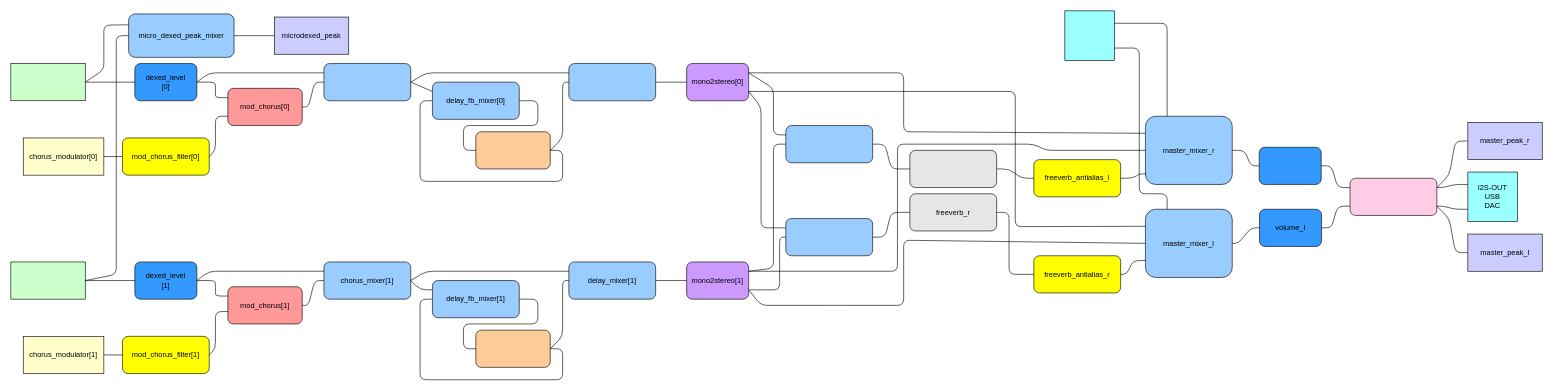
The diagram is 1553 pixels wide and 391 high, and some of its shapes have lost their labels. Each missing label, with the centre of its shape:
chorus_mixer[0]: [367,82]
delay[0]: [512,150]
delay[1]: [512,348]
delay_mixer[0]: [612,82]
freeverb_l: [953,169]
I2S-IN: [1089,35]
MicroDexed[0]: [47,82]
MicroDexed[1]: [47,280]
reverb_mixer_l: [829,237]
reverb_mixer_r: [829,144]
stereo_mono: [1393,196]
volume_r: [1290,165]
